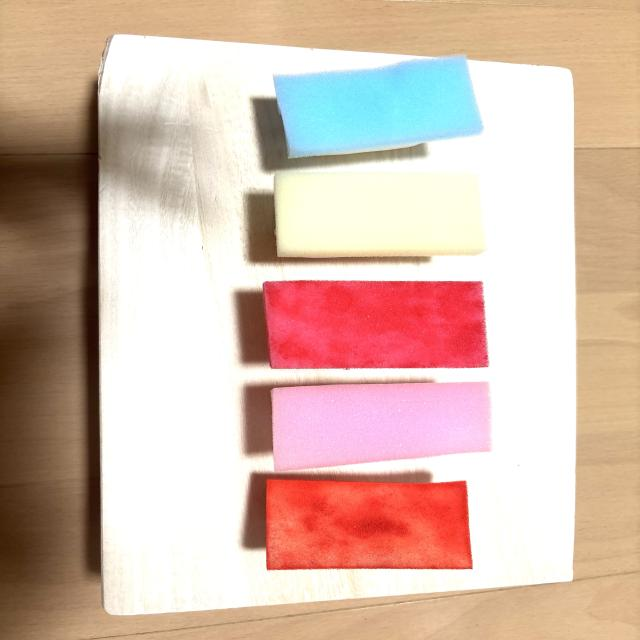ika: (274, 55, 483, 158)
maguro: (263, 281, 488, 369)
salmon: (266, 479, 472, 570)
tai: (271, 382, 491, 472)
tamago: (274, 171, 486, 258)
